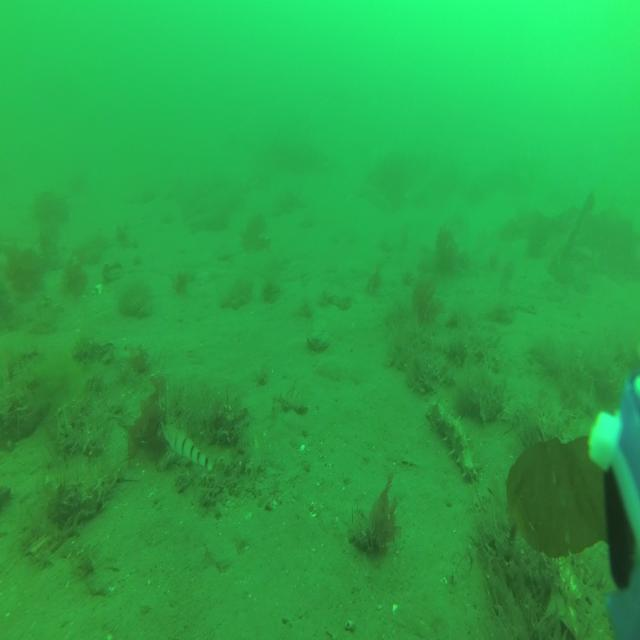holothurian: (424, 397, 479, 484)
